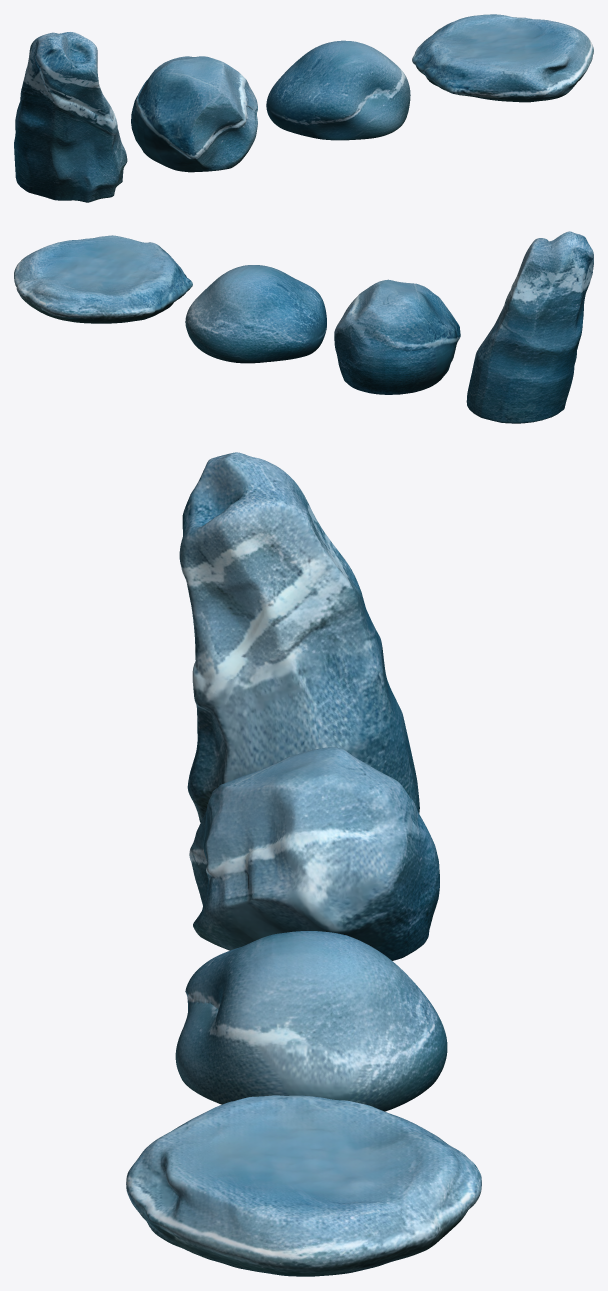
File: rock_set.glb
3 views of the same model, one above another, from view 1: azimuth 30°, elevation 25°; view 2: azimuth 150°, elevation 25°; view 3: azimuth 270°, elevation 25° (orthographic). The views are drawn at different scales.
Parts seen in each view (by area): view 1: tripo_node_cb3a692e-f2a7-42aa-a935-4900243ef13c; view 2: tripo_node_cb3a692e-f2a7-42aa-a935-4900243ef13c; view 3: tripo_node_cb3a692e-f2a7-42aa-a935-4900243ef13c.
Boxes of the visible parts, box(x1,y1,x2,y2) form: tripo_node_cb3a692e-f2a7-42aa-a935-4900243ef13c: box(14, 14, 593, 202); tripo_node_cb3a692e-f2a7-42aa-a935-4900243ef13c: box(14, 231, 593, 423); tripo_node_cb3a692e-f2a7-42aa-a935-4900243ef13c: box(126, 452, 481, 1276).
Size of the model in its own units: 1 by 0.2796 by 0.2793.
1 material, 1 textured.
